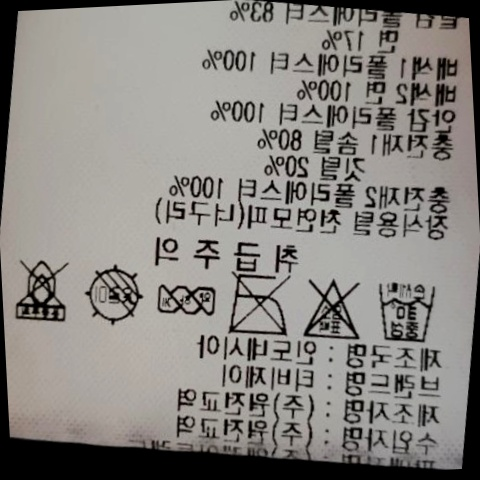DN_iron: (222, 268, 297, 344)
hand_wash: (366, 273, 440, 350)
line_dry_in_shade: (77, 259, 146, 330)
non_chlorine_bleach: (293, 264, 368, 346)
wring: (148, 274, 219, 323)
